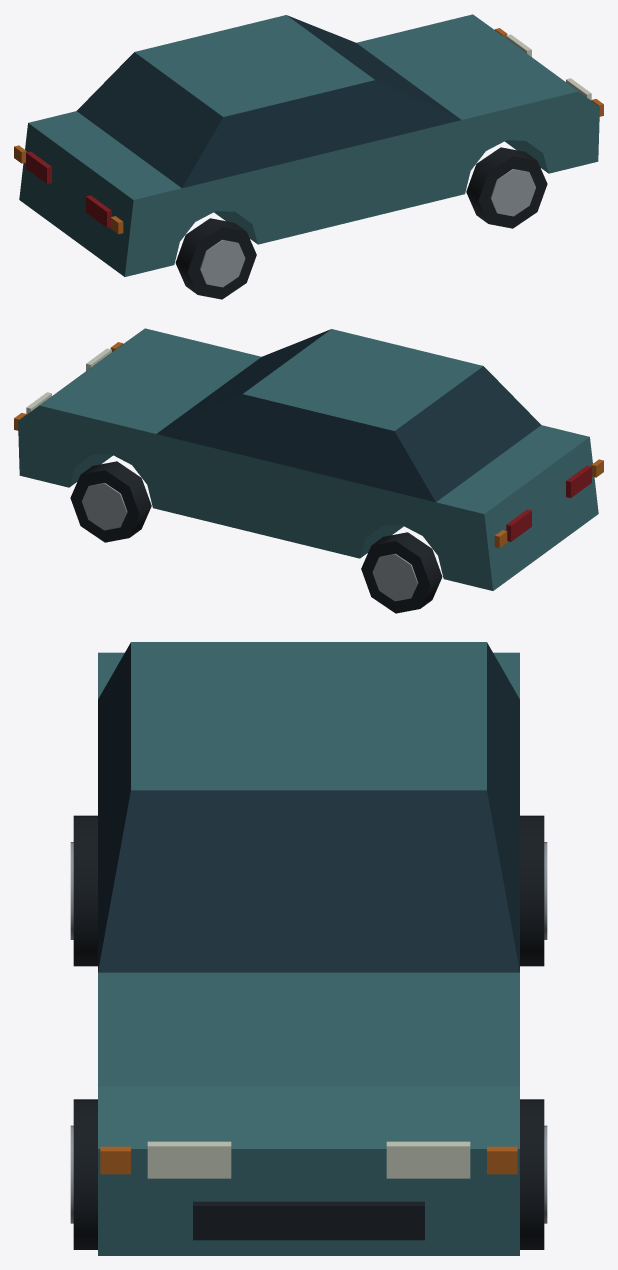
Rendered from compact-far.glb.
The picture shows the model from 3 angles, top to bottom: view 1: azimuth 30°, elevation 25°; view 2: azimuth 150°, elevation 25°; view 3: azimuth 270°, elevation 25°; orthographic projection. The views are drawn at different scales.
Parts seen in each view (by area): view 1: distant_surface; view 2: distant_surface; view 3: distant_surface.
Part boxes in pixels (x1=…): distant_surface: x1=14, y1=14, x2=603, y2=299; distant_surface: x1=14, y1=328, x2=603, y2=613; distant_surface: x1=70, y1=642, x2=547, y2=1255.
Size of the model in its own units: 4.41 by 1.46 by 1.87.
